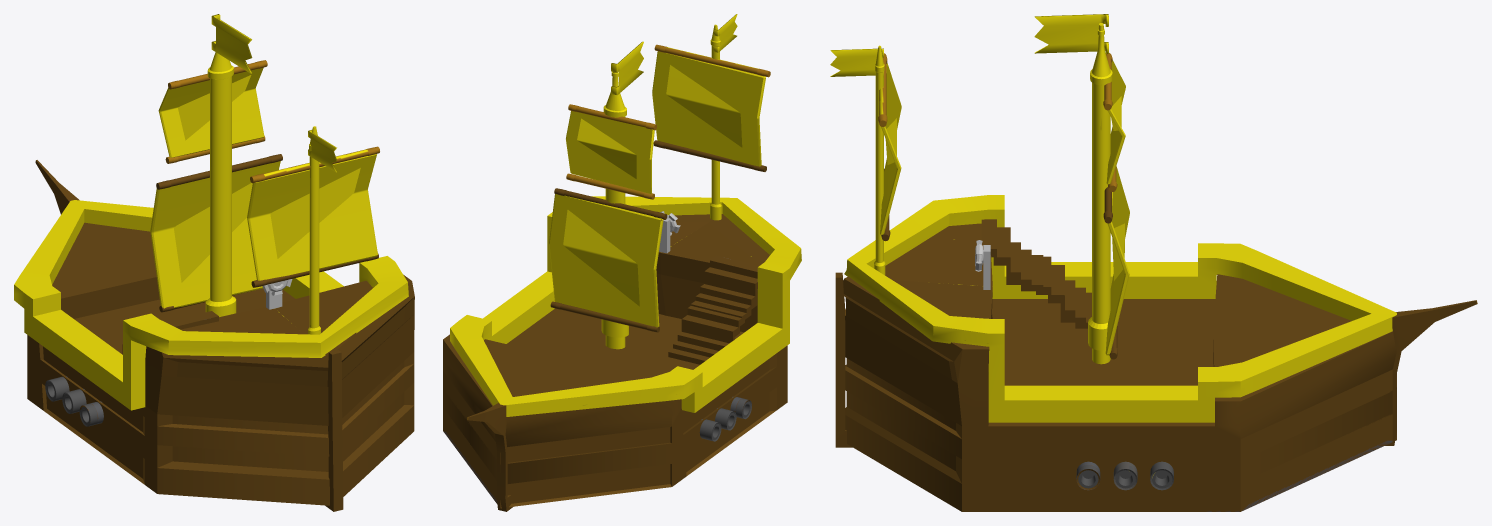
Rendered from Boat.fbx.
3 renders of one model, left to right at view 1: azimuth 30°, elevation 25°; view 2: azimuth 150°, elevation 25°; view 3: azimuth 270°, elevation 25°, orthographic. The views are drawn at different scales.
Visible parts, largest first — view 1: boat_base, Mast_front, Mast_back; view 2: boat_base, Mast_front, Mast_back; view 3: boat_base, Mast_front, Mast_back.
Part boxes in pixels (x1,y1,x2,y2): boat_base: (14,160,414,511); Mast_front: (150,14,282,316); Mast_back: (247,126,379,334); boat_base: (443,196,801,511); Mast_front: (549,41,667,349); Mast_back: (652,14,770,220); boat_base: (835,195,1477,511); Mast_front: (1034,14,1129,364); Mast_back: (830,45,901,275).
Size of the model in its own units: 809 by 1091 by 1483.
